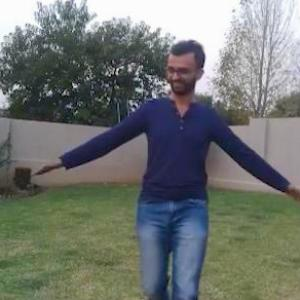land: (43, 39, 282, 299)
